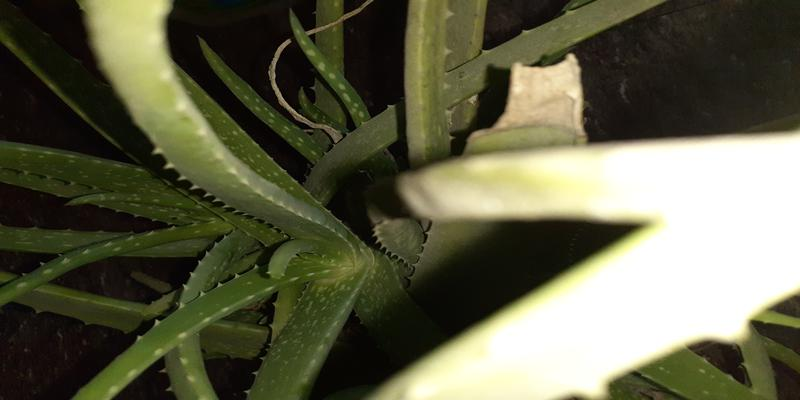Aloevera: (109, 55, 715, 367)
